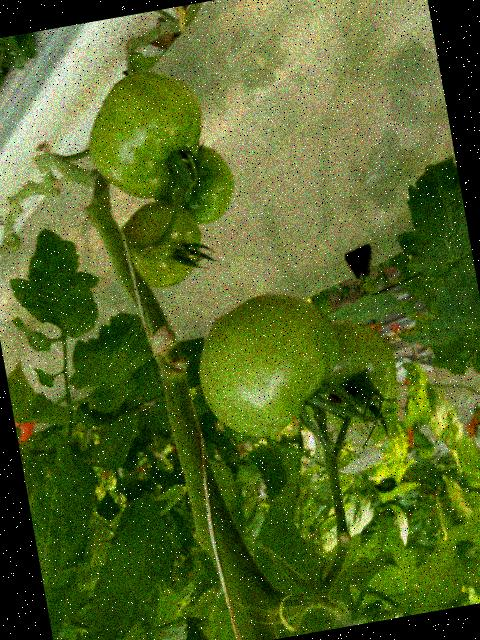b_green: (187, 282, 353, 446), (77, 61, 215, 207), (289, 309, 405, 434), (116, 194, 209, 293), (144, 139, 240, 232)
